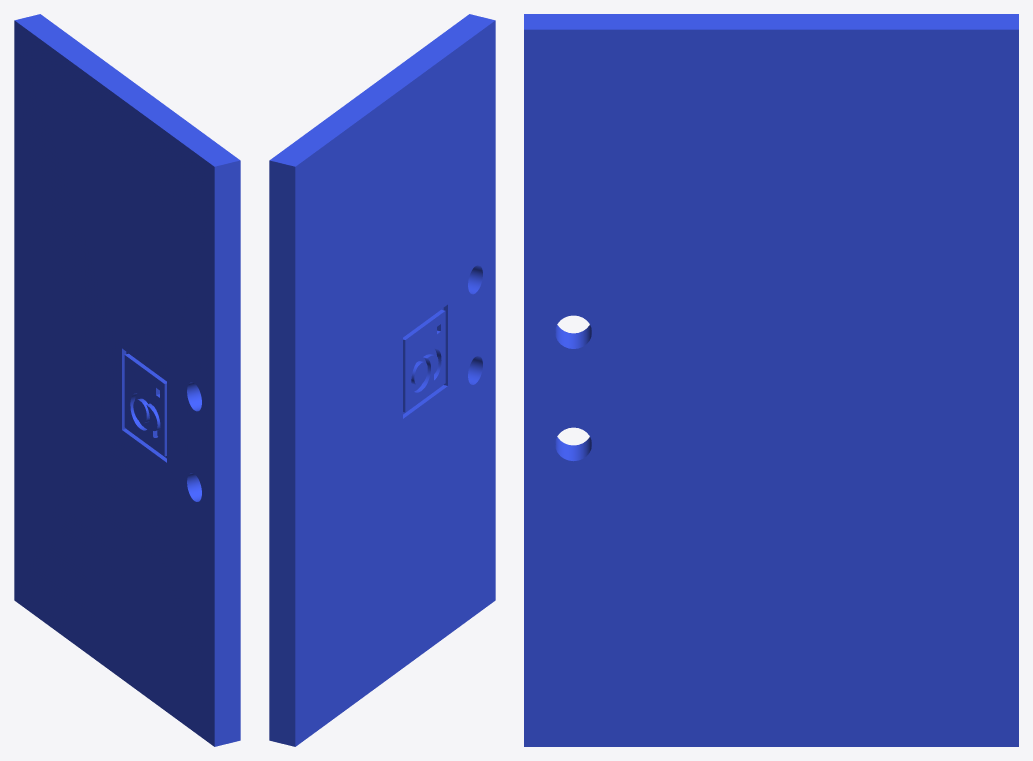
Rendered from Back_plate.obj.
3 renders of one model, left to right at view 1: azimuth 30°, elevation 25°; view 2: azimuth 150°, elevation 25°; view 3: azimuth 270°, elevation 25°, orthographic. The views are drawn at different scales.
Parts seen in each view (by area): view 1: Body1; view 2: Body1; view 3: Body1.
Part boxes in pixels (<box>): Body1: <box>14,14,240,746</box>; Body1: <box>269,14,495,746</box>; Body1: <box>524,14,1018,746</box>.
Bounding box in the file's own units: 0.3 × 6.4 × 4.
